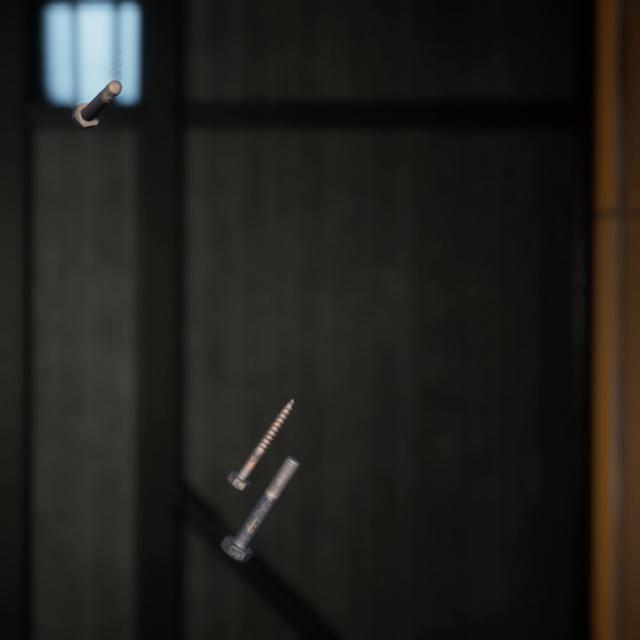bolt: (216, 429, 304, 544), (222, 373, 299, 475), (68, 63, 126, 122)
